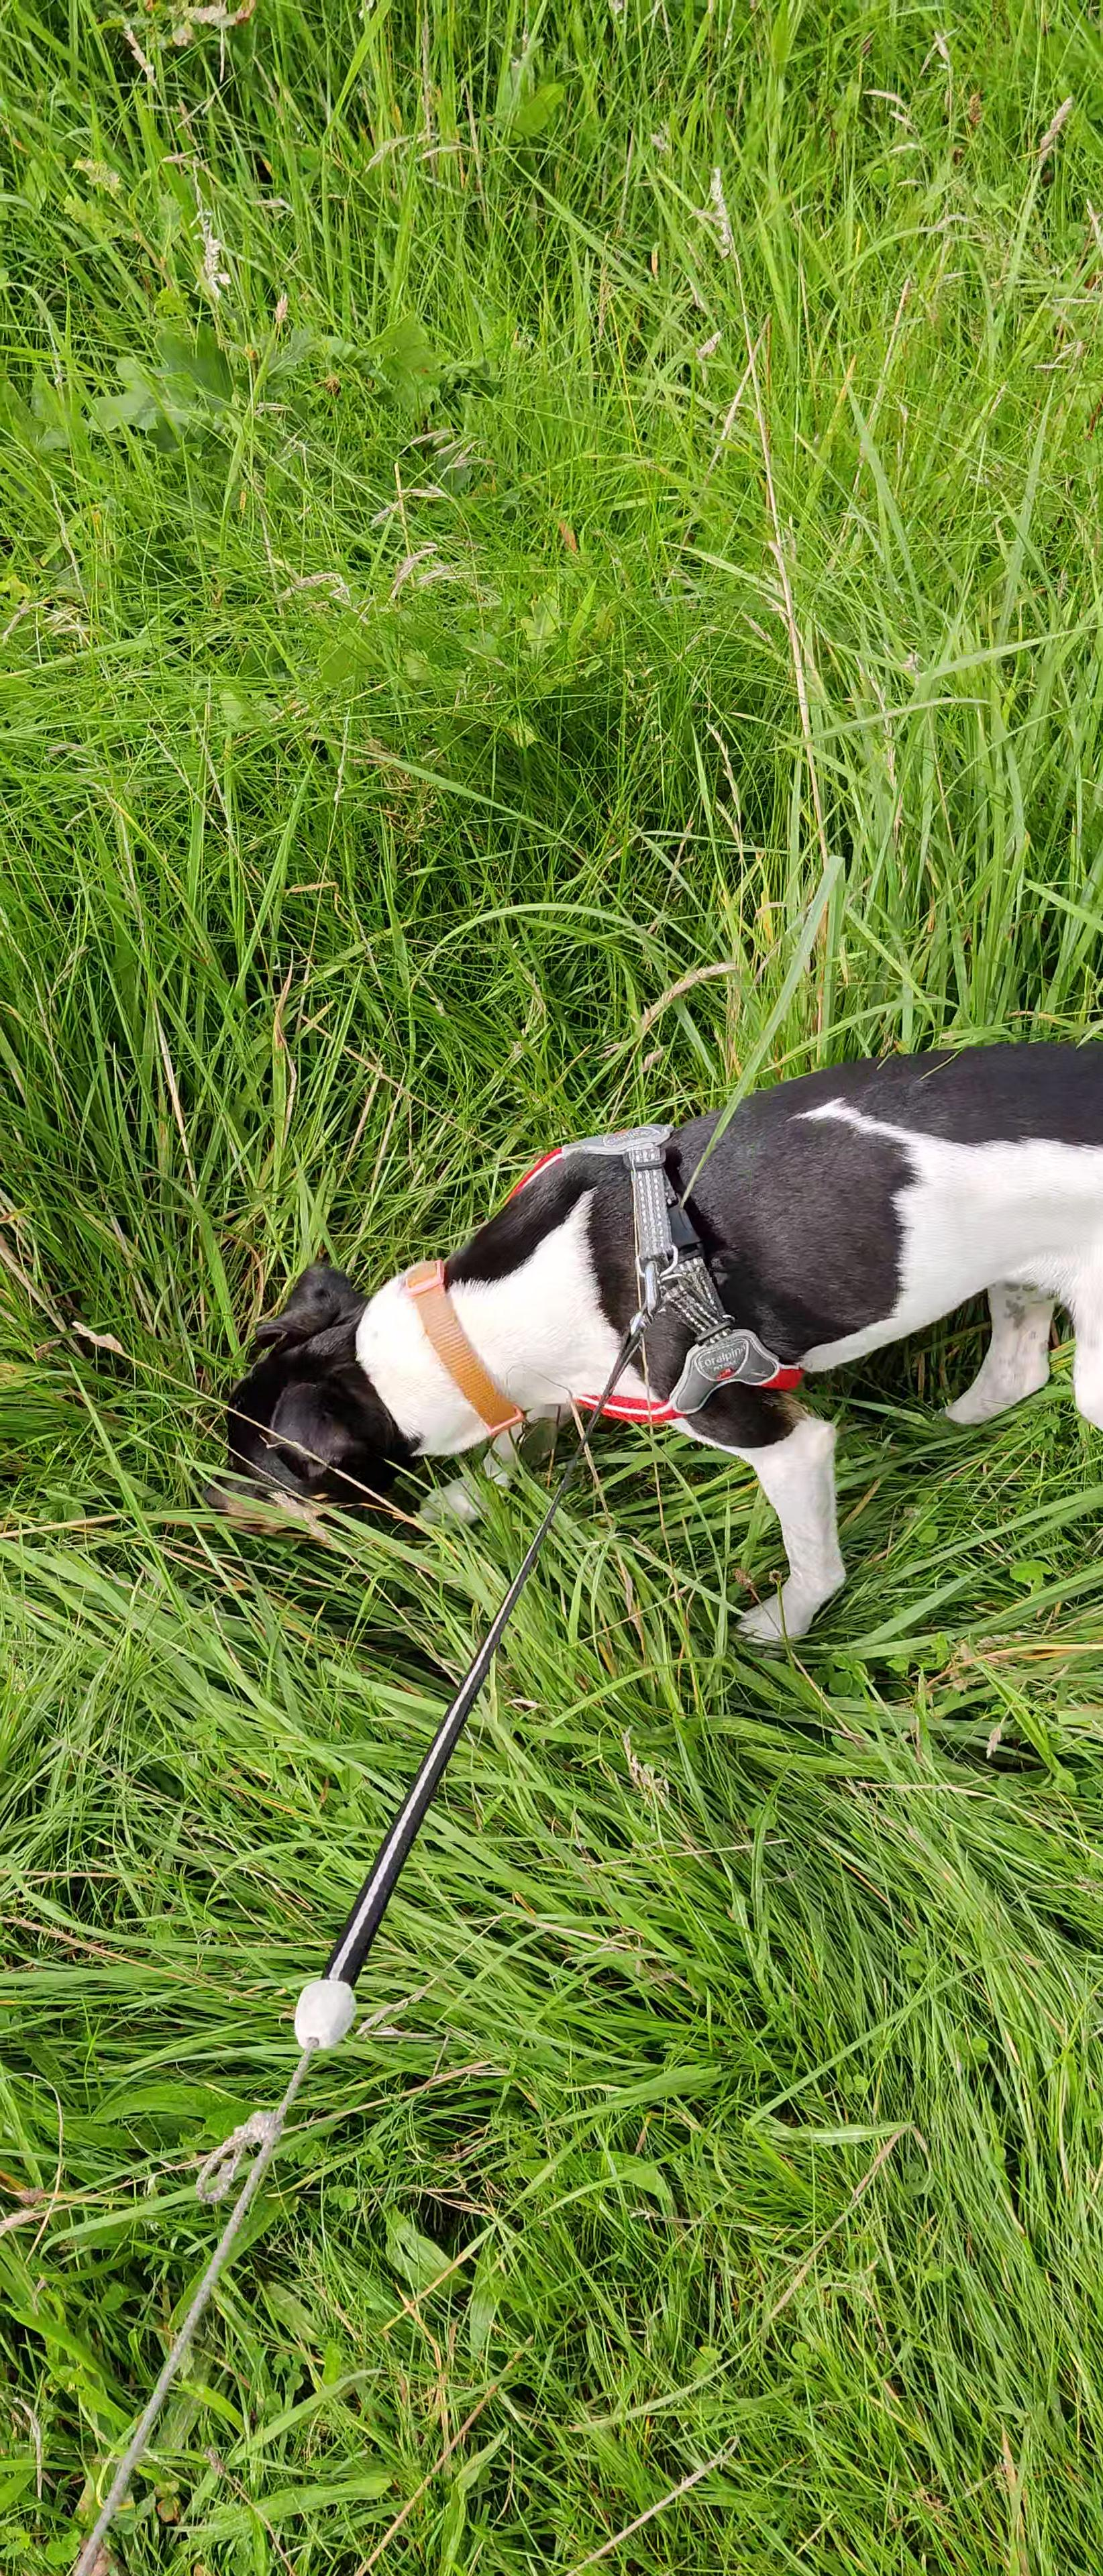Dog: (181, 1028, 1103, 1656)
